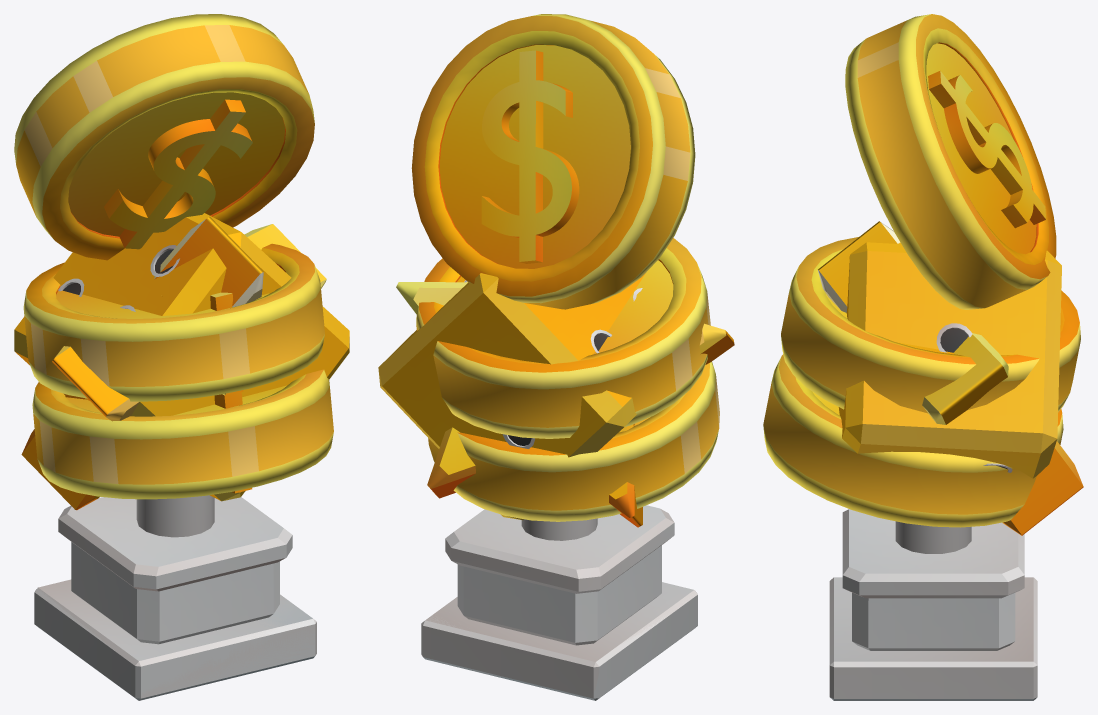
Rendered from R2F_Statues.fbx.
3 views of the same model, side by side, from view 1: azimuth 30°, elevation 25°; view 2: azimuth 150°, elevation 25°; view 3: azimuth 270°, elevation 25° (orthographic). The views are drawn at different scales.
Visible parts, largest first — view 1: Statue_Coin_01, Statue_Dice_01, Statue_Star_01; view 2: Statue_Coin_01, Statue_Dice_01, Statue_Star_01; view 3: Statue_Coin_01, Statue_Dice_01, Statue_Star_01.
Boxes of the visible parts, x1,y1,x2,y2 form: Statue_Coin_01: (14,14,333,700); Statue_Dice_01: (14,213,349,698); Statue_Star_01: (21,217,326,537); Statue_Coin_01: (411,14,719,700); Statue_Dice_01: (378,273,697,698); Statue_Star_01: (396,282,734,540); Statue_Coin_01: (763,14,1080,527); Statue_Dice_01: (829,242,1061,700); Statue_Star_01: (818,221,1083,553).
Size of the model in its own units: 0.9317 by 1.87 by 0.8652.
